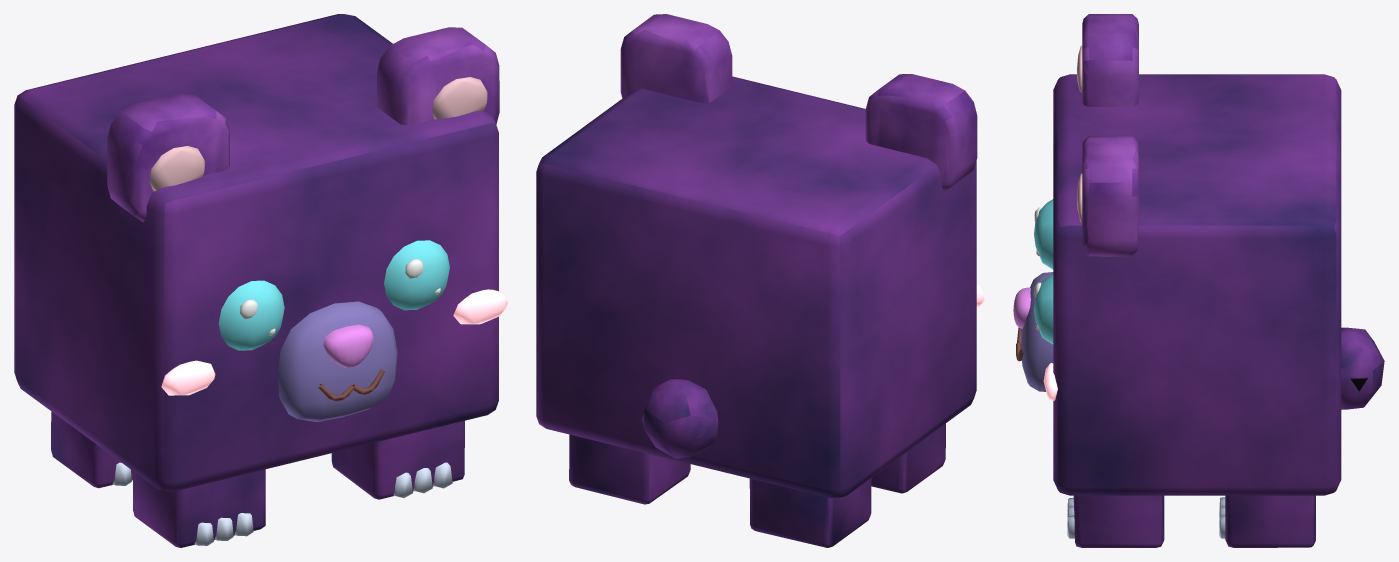
Rendered from Bear_Galaxiebaer.fbx.
3 renders of one model, left to right at view 1: azimuth 30°, elevation 25°; view 2: azimuth 150°, elevation 25°; view 3: azimuth 270°, elevation 25°, orthographic. The views are drawn at different scales.
Parts seen in each view (by area): view 1: Galaxiebaer_body, Galaxiebaer_ears, Galaxiebaer_feet, Galaxiebaer_muzzle, Galaxiebaer_eyes, Bear_Galaxiebaer, Galaxiebaer_toes, Bear_Galaxiebaer_cute_innerear_-1, Galaxiebaer_nose, Bear_Galaxiebaer_cute_blush_-1; view 2: Galaxiebaer_body, Galaxiebaer_ears, Galaxiebaer_feet, Bear_Galaxiebaer_cute_tail; view 3: Galaxiebaer_body, Galaxiebaer_ears, Galaxiebaer_feet, Bear_Galaxiebaer_cute_tail, Galaxiebaer_eyes, Galaxiebaer_muzzle, Bear_Galaxiebaer, Galaxiebaer_toes, Galaxiebaer_nose.
Boxes of the visible parts, x1,y1,x2,y2 form: Galaxiebaer_body: (14,14,498,491); Galaxiebaer_ears: (107,27,499,222); Galaxiebaer_feet: (51,411,464,547); Galaxiebaer_muzzle: (277,301,397,421); Galaxiebaer_eyes: (218,240,449,350); Bear_Galaxiebaer: (405,77,507,324); Galaxiebaer_toes: (112,462,452,545); Bear_Galaxiebaer_cute_innerear_-1: (149,146,205,191); Galaxiebaer_nose: (323,324,373,367); Bear_Galaxiebaer_cute_blush_-1: (161,360,215,395); Galaxiebaer_body: (536,76,976,498); Galaxiebaer_ears: (620,14,977,191); Galaxiebaer_feet: (569,423,945,547); Bear_Galaxiebaer_cute_tail: (641,379,718,458); Galaxiebaer_body: (1053,74,1341,495); Galaxiebaer_ears: (1082,14,1138,256); Galaxiebaer_feet: (1073,495,1315,547); Bear_Galaxiebaer_cute_tail: (1341,327,1384,409); Galaxiebaer_eyes: (1034,199,1053,344); Galaxiebaer_muzzle: (1021,272,1053,391); Bear_Galaxiebaer: (1034,173,1082,400); Galaxiebaer_toes: (1067,497,1225,538); Galaxiebaer_nose: (1013,287,1030,328).
Size of the model in its own units: 2.35 by 2.61 by 2.21.
12 materials, 4 textured.
